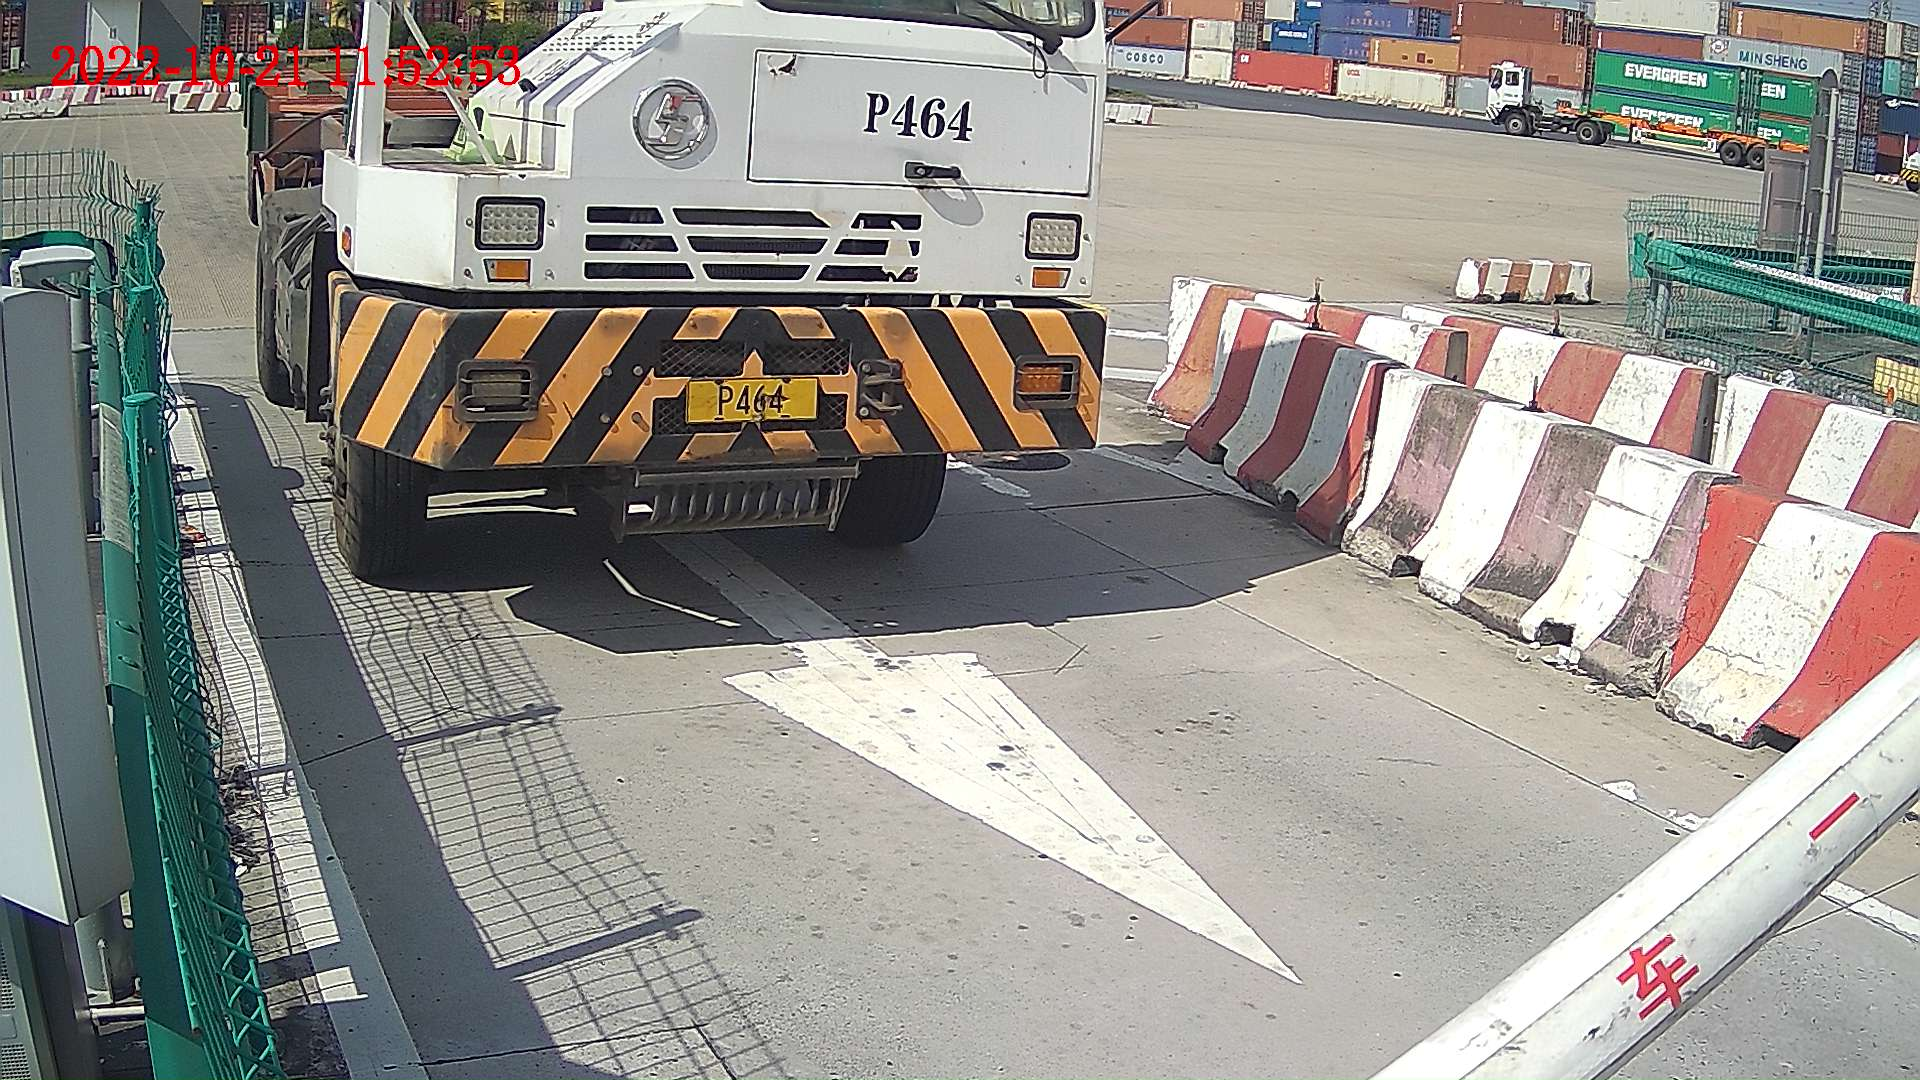head: (323, 1, 1104, 585)
plate: (695, 384, 817, 420)
